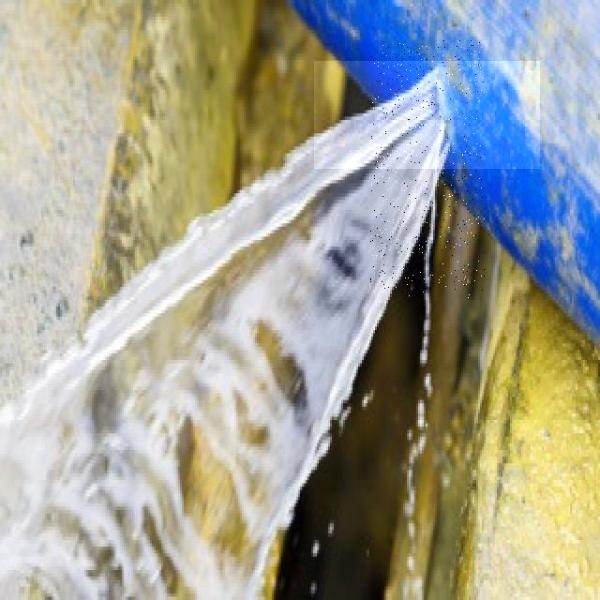water: (314, 61, 540, 169)
